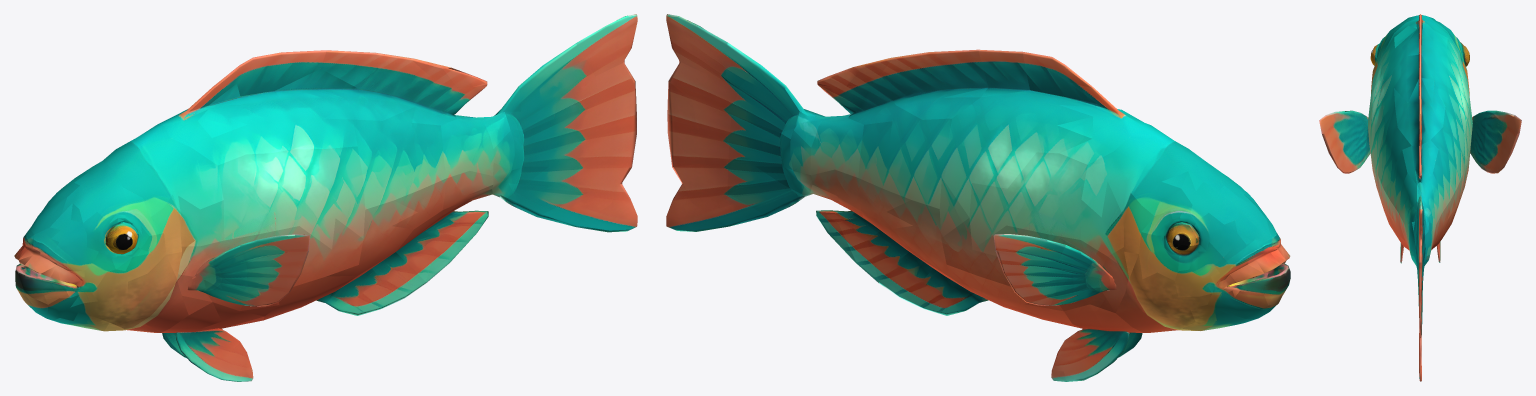
The picture shows the model from 3 angles, left to right: view 1: azimuth 30°, elevation 25°; view 2: azimuth 150°, elevation 25°; view 3: azimuth 270°, elevation 25°; orthographic projection. The views are drawn at different scales.
Bounding box in the file's own units: 1 × 0.4824 × 0.3496.
Materials: 1 (1 with a texture image).
